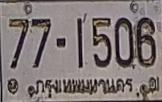0: (114, 17, 134, 67)
1: (77, 18, 84, 69)
5: (92, 17, 111, 67)
6: (136, 17, 156, 67)
7: (8, 18, 29, 68), (32, 18, 52, 68)
BKK: (32, 74, 135, 98)
